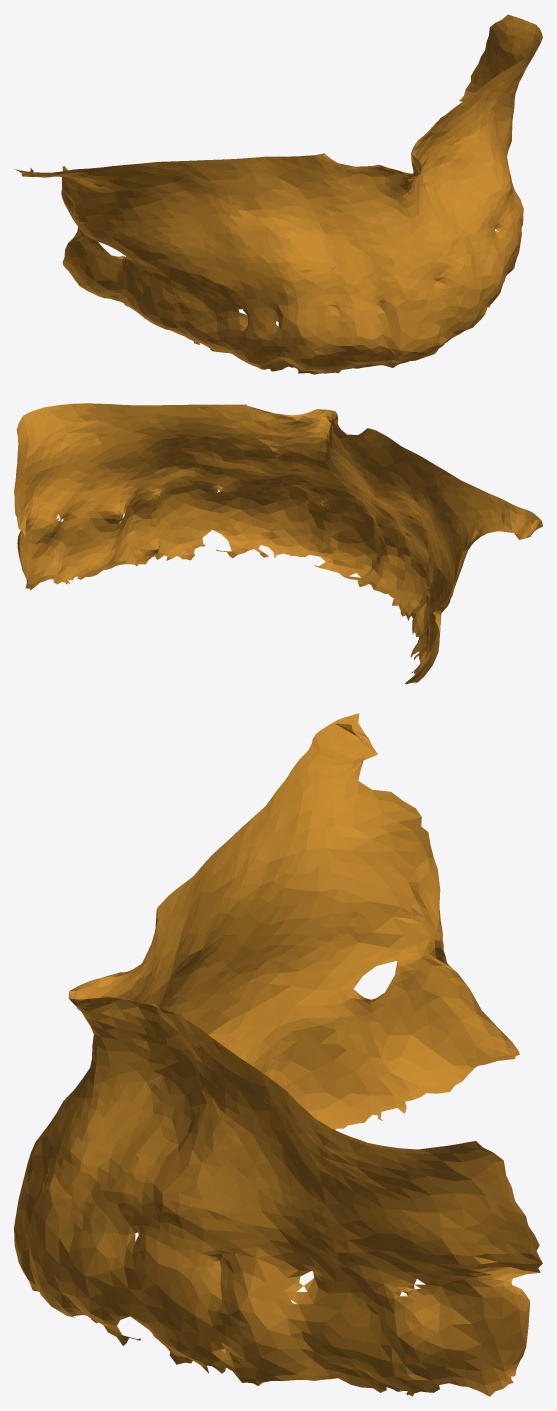
Rendered from upper.obj.
3 renders of one model, top to bottom at view 1: azimuth 30°, elevation 25°; view 2: azimuth 150°, elevation 25°; view 3: azimuth 270°, elevation 25°, orthographic. The views are drawn at different scales.
Bounding box in the file's own units: 1.05 × 0.3865 × 0.5388.
